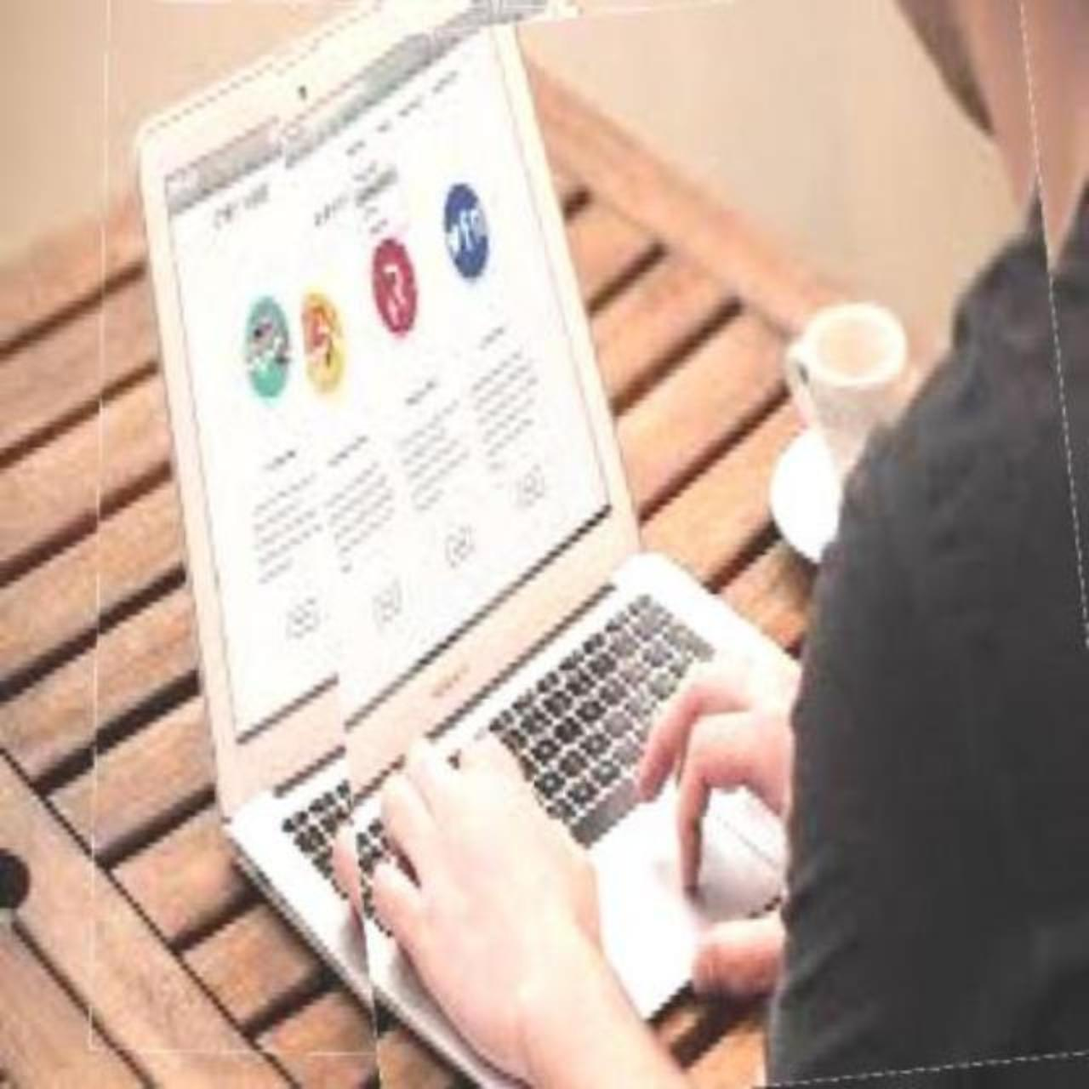laptop: (94, 3, 876, 1059)
